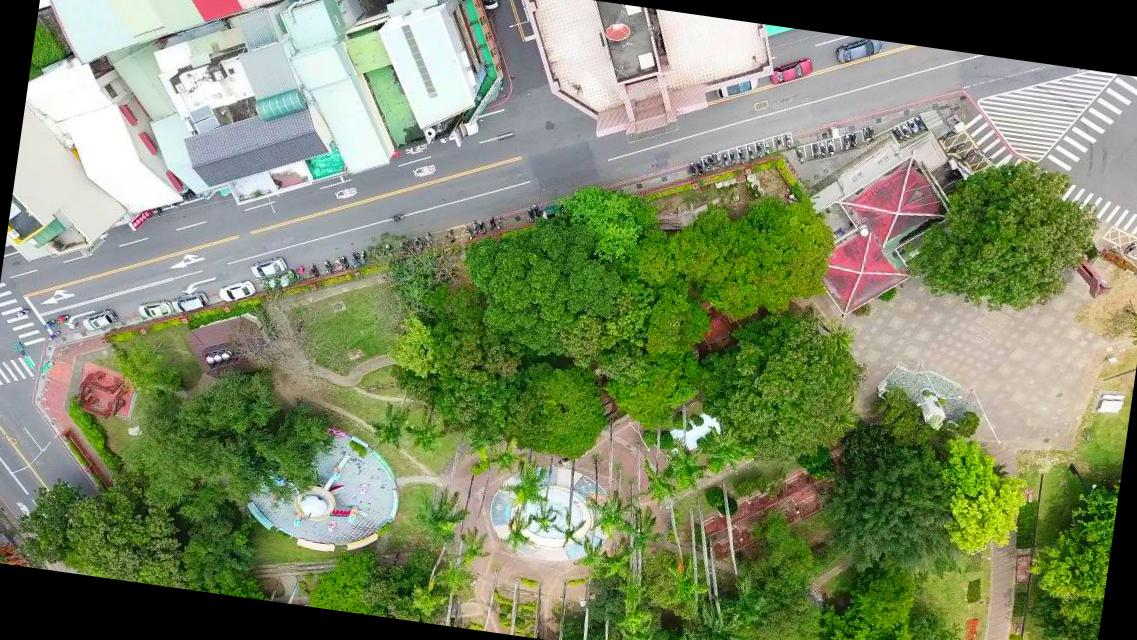vehicle: (768, 52, 813, 90), (834, 36, 884, 70), (714, 72, 759, 103), (216, 276, 258, 306), (438, 118, 479, 148), (80, 306, 120, 336), (248, 253, 289, 282), (170, 288, 209, 318), (136, 296, 175, 322), (474, 0, 502, 12)
